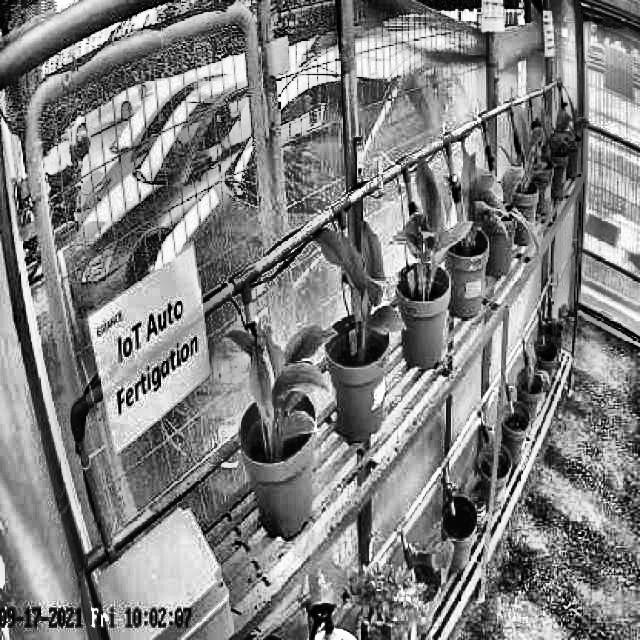plants: (227, 323, 336, 440), (314, 216, 408, 338), (394, 153, 466, 290), (460, 143, 506, 244), (514, 114, 544, 188)
